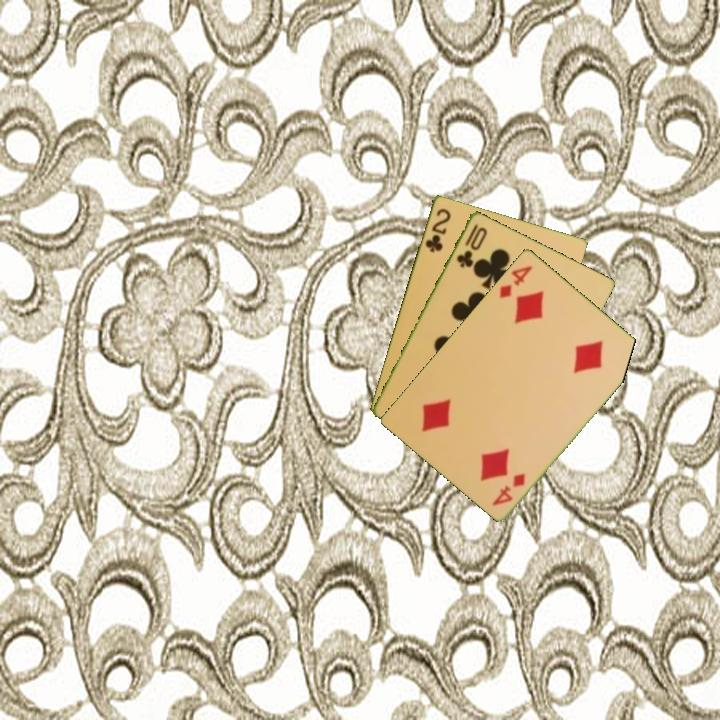10c: (453, 220, 490, 270)
2c: (421, 205, 453, 255)
4d: (495, 261, 535, 301), (488, 469, 528, 508)
